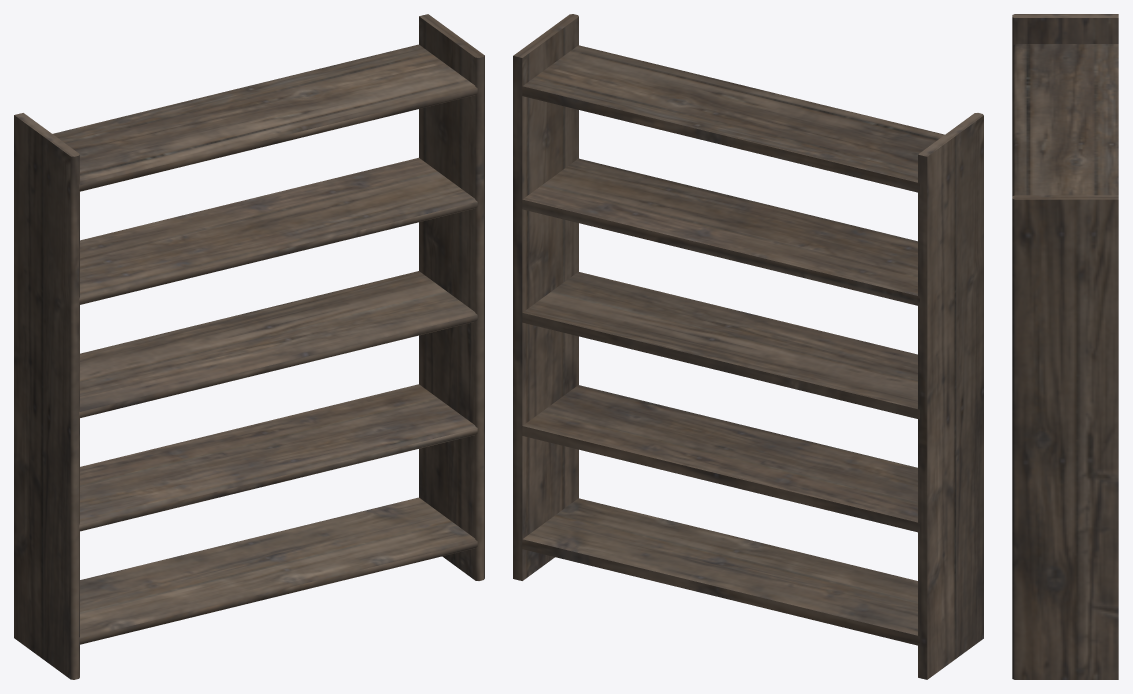
The model's file is shelves_dark.glb.
3 renders of one model, left to right at view 1: azimuth 30°, elevation 25°; view 2: azimuth 150°, elevation 25°; view 3: azimuth 270°, elevation 25°, orthographic. The views are drawn at different scales.
Parts seen in each view (by area): view 1: Bookshelf_Wood Planks_0; view 2: Bookshelf_Wood Planks_0; view 3: Bookshelf_Wood Planks_0.
Boxes of the visible parts, bbox=[...] form: Bookshelf_Wood Planks_0: bbox=[14, 14, 484, 679]; Bookshelf_Wood Planks_0: bbox=[513, 14, 983, 679]; Bookshelf_Wood Planks_0: bbox=[1012, 14, 1118, 679].
Size of the model in its own units: 0.6411 by 0.7739 by 0.1551.
Materials: 1 (1 with a texture image).
